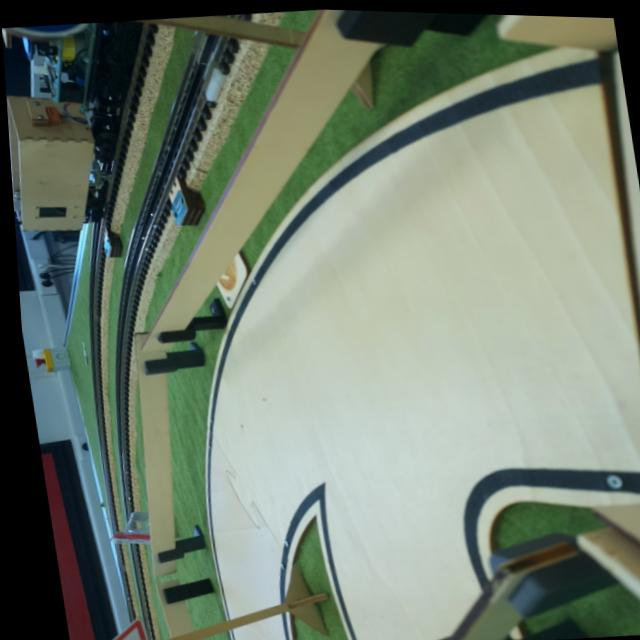panneau_intersection: (66, 614, 162, 640)
